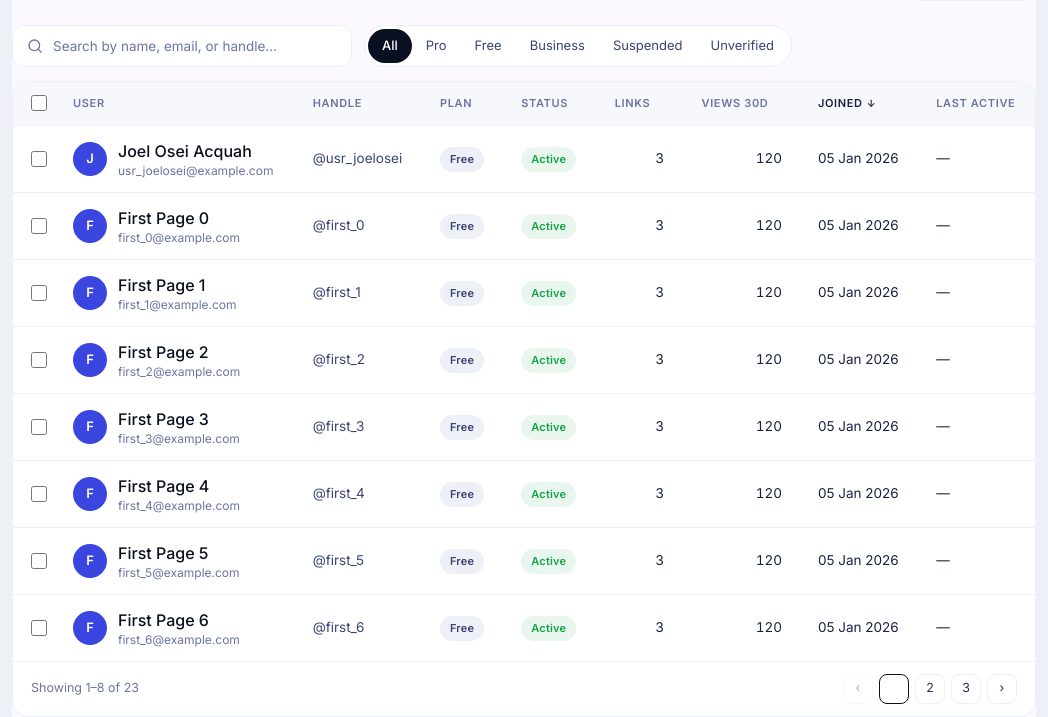
Scenario: UsersClient › pages through results
The width and height of the screenshot is (1048, 717).
(page scrolled)
Expected: the text "Joel Osei Acquah" is shown, [118,138,273,162]
Click the button named "Next page". click: (1002, 688)
box: [987,674,1017,704]
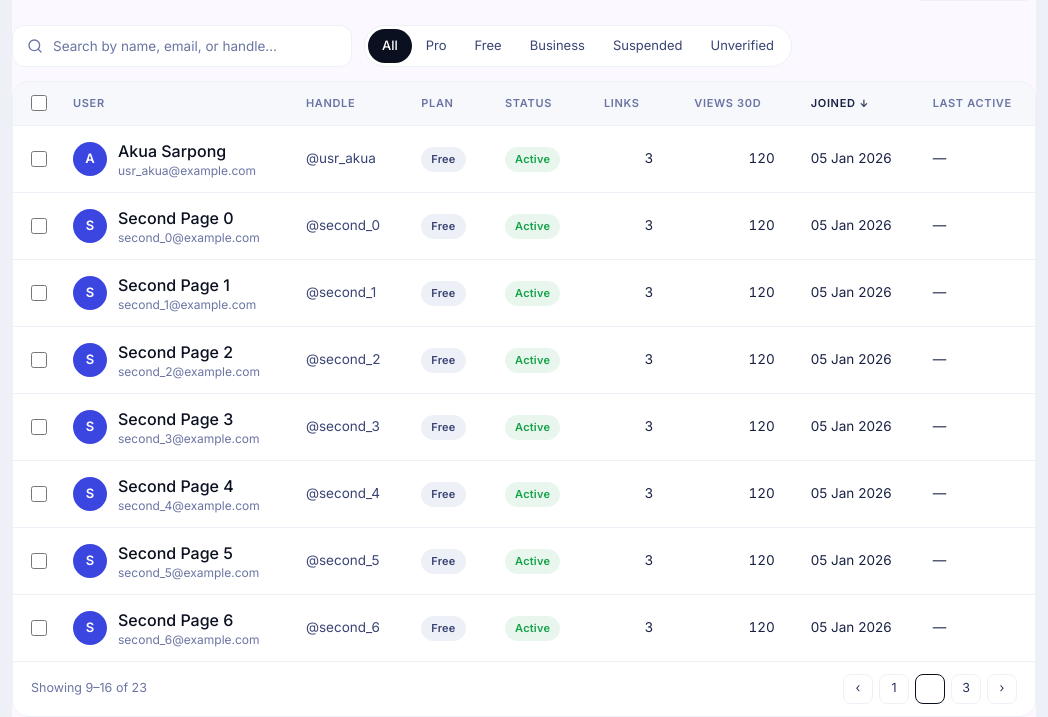
Now the text "Akua Sarpong" is shown, box [118,140,226,160]
Now the text "Joel Osei Acquah" is gone
Now the text "Showing 9–16 of 23" is shown, box [31,679,147,698]
